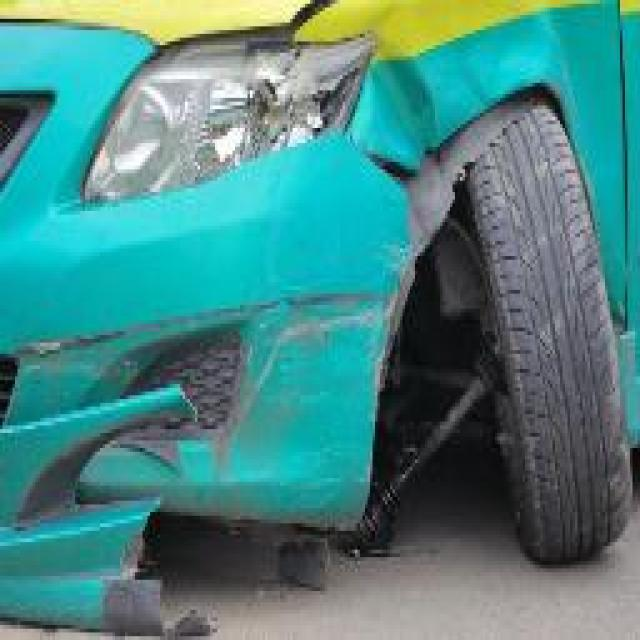Bumper: (2, 200, 405, 625)
Fender: (372, 8, 620, 128)
Light: (248, 34, 365, 143)
